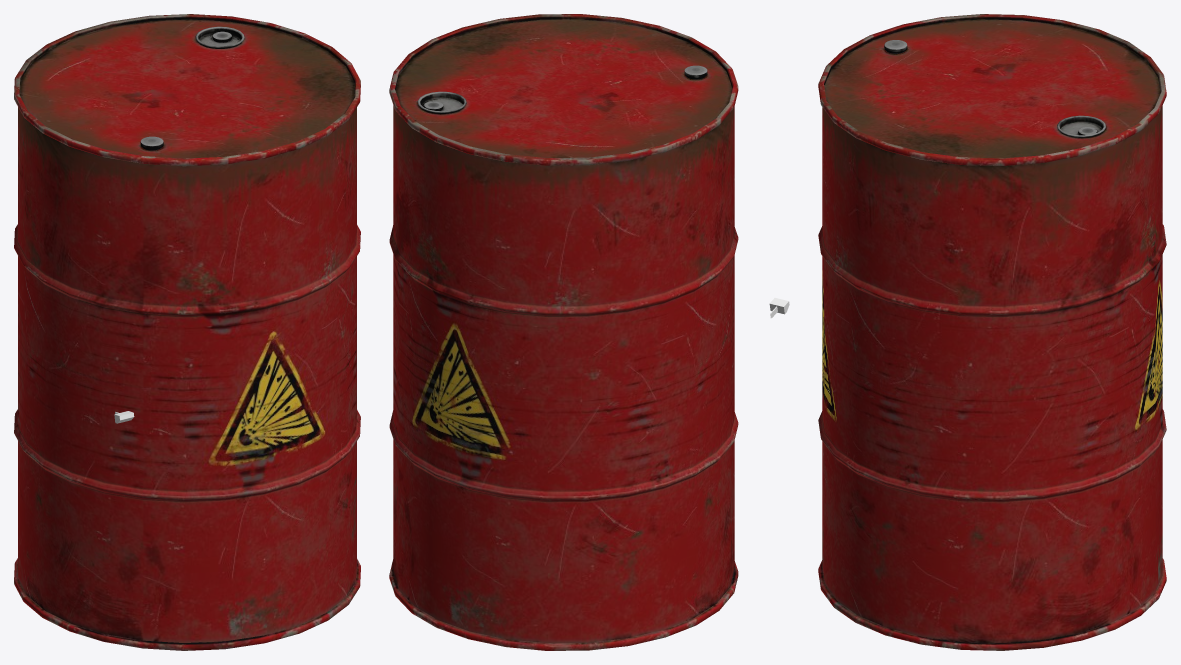
3 renders of one model, left to right at view 1: azimuth 30°, elevation 25°; view 2: azimuth 150°, elevation 25°; view 3: azimuth 270°, elevation 25°, orthographic.
Visible parts, largest first — view 1: Barrel_01; view 2: Barrel_01; view 3: Barrel_01.
Part boxes in pixels (bbox=[...]): Barrel_01: bbox=[14, 14, 360, 650]; Barrel_01: bbox=[389, 14, 738, 650]; Barrel_01: bbox=[818, 14, 1166, 650].
Bounding box in the file's own units: 0.563 × 0.88 × 0.563.
Materials: 3 (1 with a texture image).
